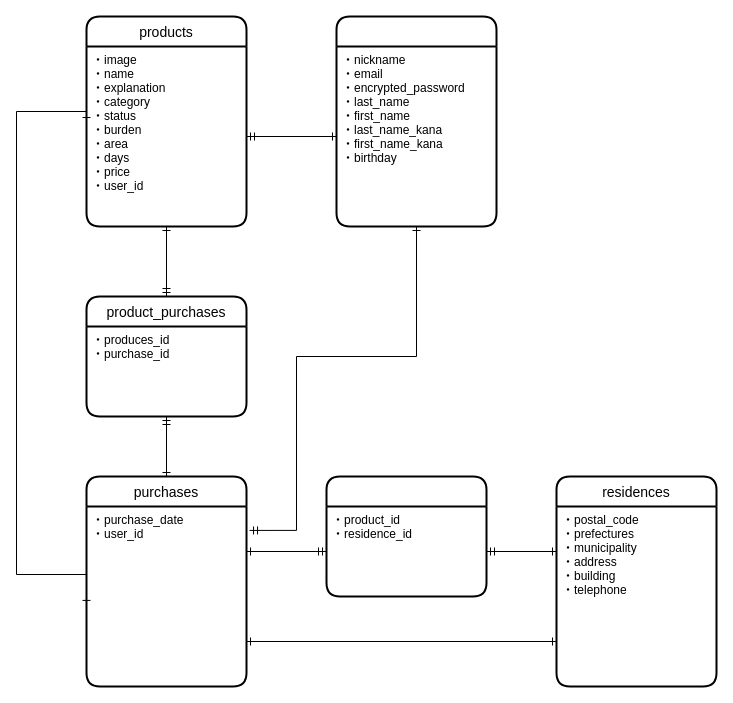
Image size: 733x703. Some labels were removed from this diagram. The box of each missing label's shape, as (x1, y1, x2, y2) in pixels:
purchase_residences: (325, 475, 487, 597)
users: (335, 15, 497, 227)
